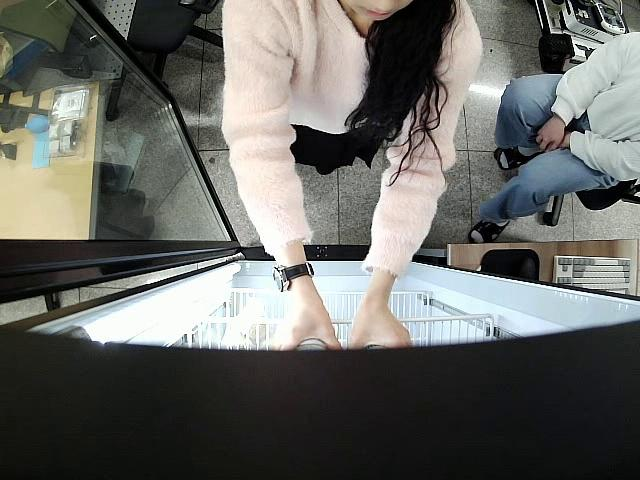00_hand: (273, 292, 347, 354), (350, 295, 412, 350), (536, 114, 566, 152)
